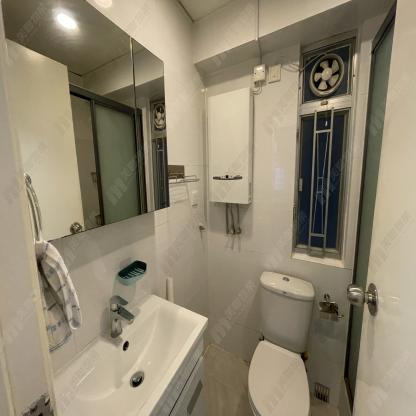Exhaust Fan: (304, 44, 351, 102)
Toilet: (248, 271, 315, 416)
Toilet Sink: (52, 293, 209, 416)
Water Heater: (207, 86, 254, 204)
